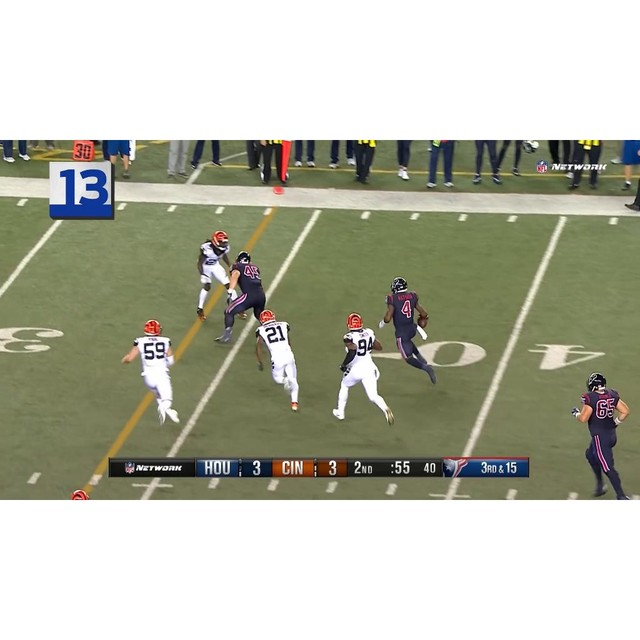american-football-player: (572, 374, 635, 499), (332, 312, 394, 427), (378, 277, 438, 387), (121, 320, 179, 425), (253, 309, 302, 415), (214, 250, 267, 345), (195, 232, 233, 320)
